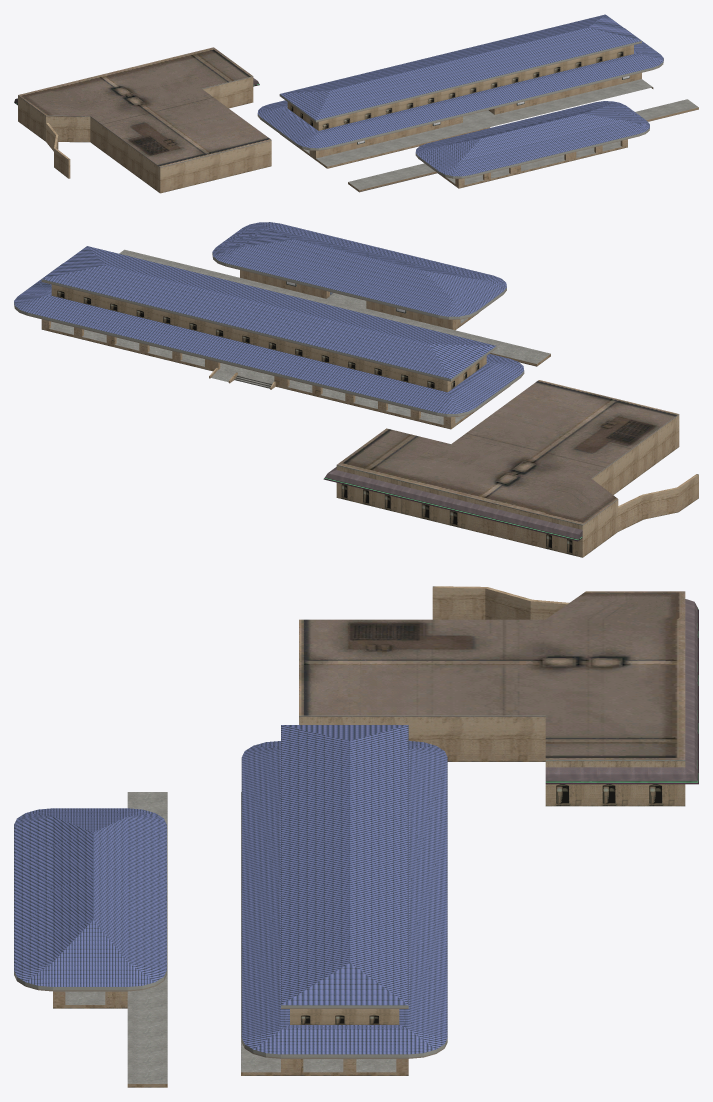
File: vegaswtrainstat.obj
3 views of the same model, one above another, from view 1: azimuth 30°, elevation 25°; view 2: azimuth 150°, elevation 25°; view 3: azimuth 270°, elevation 25° (orthographic). The views are drawn at different scales.
Visible parts, largest first — view 1: vegaswtrainstat; view 2: vegaswtrainstat; view 3: vegaswtrainstat.
Part boxes in pixels (x1,y1,x2,y2): vegaswtrainstat: [14, 14, 698, 193]; vegaswtrainstat: [14, 222, 698, 557]; vegaswtrainstat: [14, 586, 698, 1087].
Size of the model in its own units: 160 by 13.25 by 98.21.
15 materials, 15 textured.
